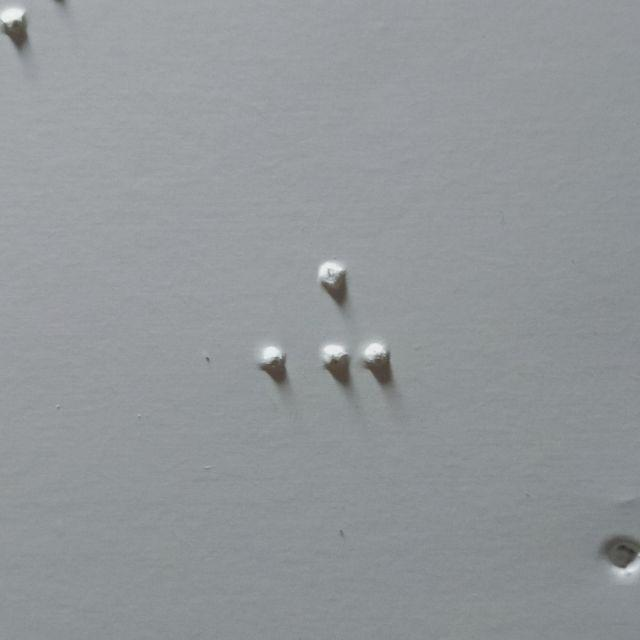U: (317, 260, 393, 378)
capital: (212, 263, 288, 380)
